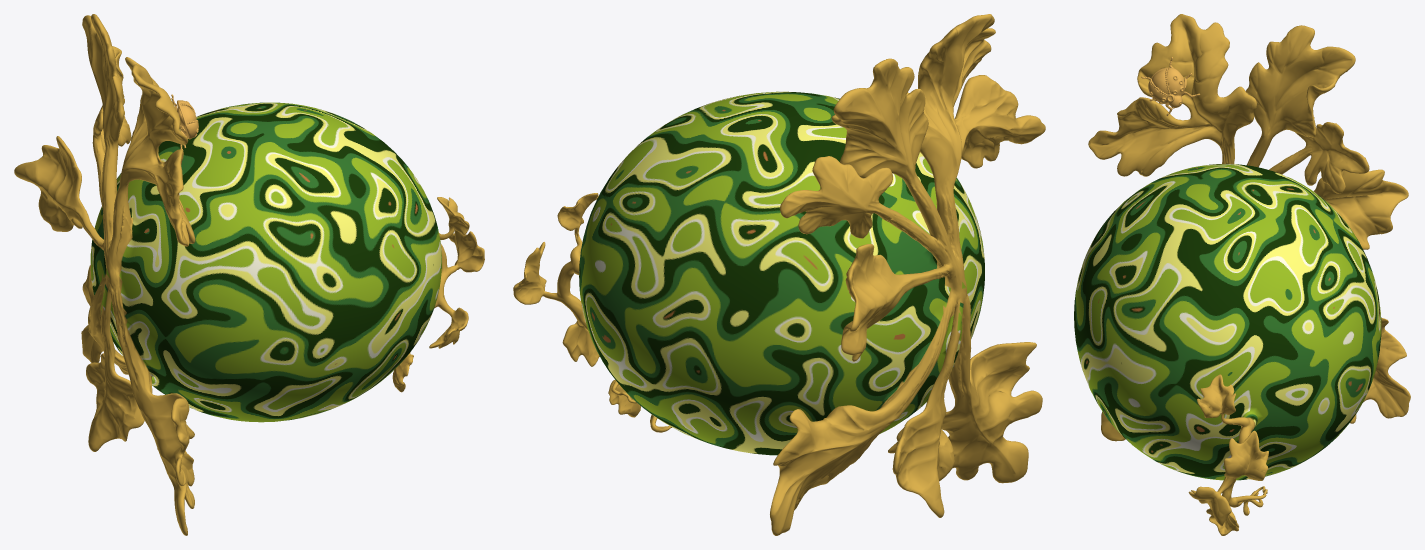
The model's file is watermelon.glb.
The picture shows the model from 3 angles, left to right: view 1: azimuth 30°, elevation 25°; view 2: azimuth 150°, elevation 25°; view 3: azimuth 270°, elevation 25°; orthographic projection. The views are drawn at different scales.
Parts seen in each view (by area): view 1: watermelon_Body0, watermelon_Accent1; view 2: watermelon_Body0; view 3: watermelon_Body0, watermelon_Accent1.
Boxes of the visible parts, box(x1,y1,x2,y2) form: watermelon_Body0: box(14, 14, 484, 535); watermelon_Accent1: box(171, 94, 198, 150); watermelon_Body0: box(513, 14, 1045, 535); watermelon_Body0: box(1074, 14, 1410, 535); watermelon_Accent1: box(1141, 57, 1200, 115).
Bounding box in the file's own units: 1.61 × 1.8 × 1.31.
Materials: 2 (1 with a texture image).
